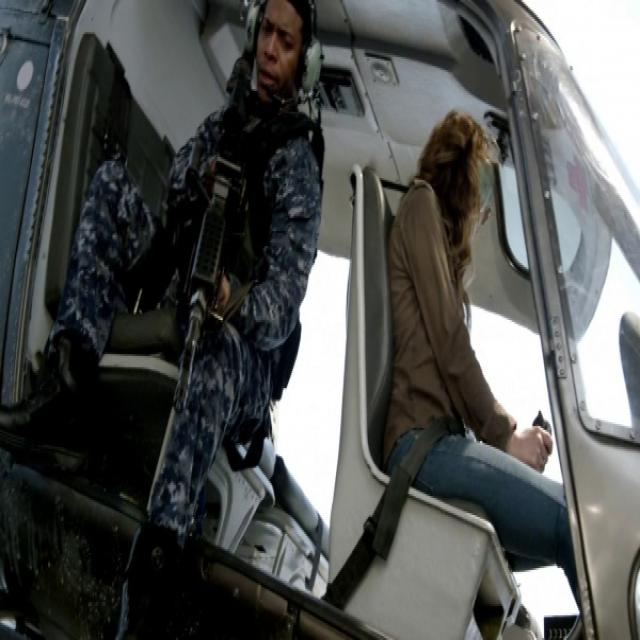rifle: (172, 163, 240, 441)
